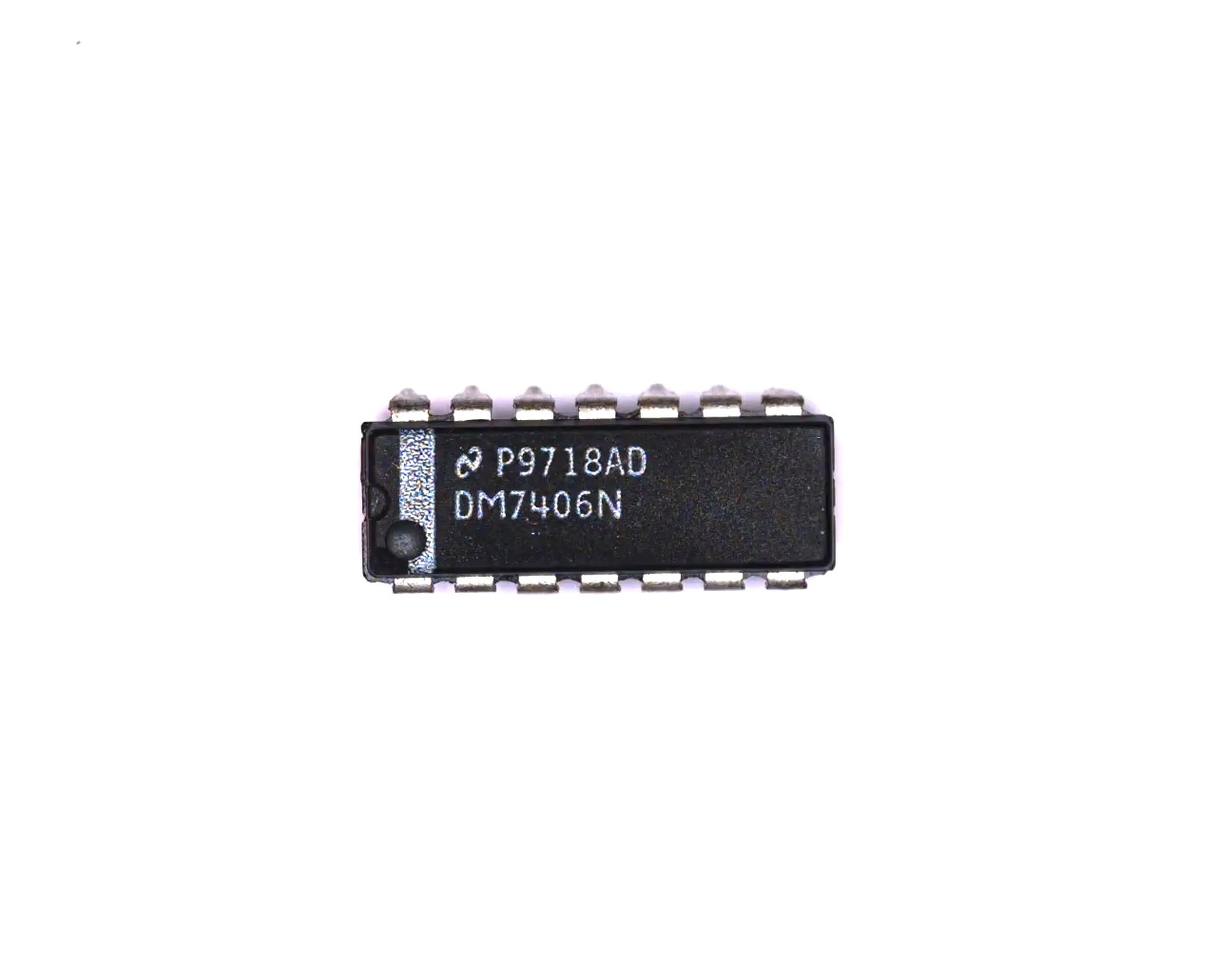IC: (354, 378, 844, 602)
notch: (356, 482, 395, 523)
